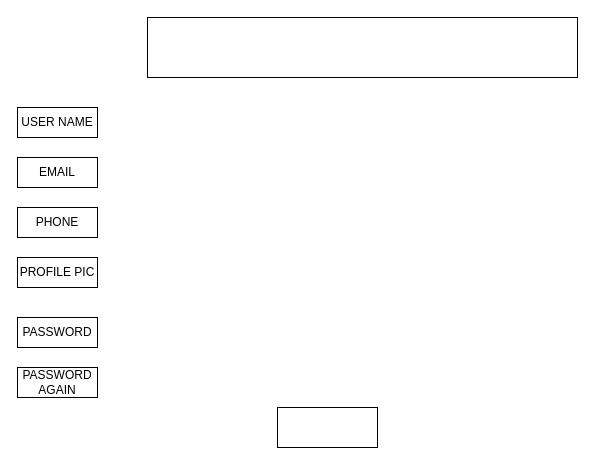
Some shapes in this 595 by 465 pixel diagram are drawn without their labels. Each missing label, with the centre of its shape:
"REGISTER" belongs at point 327,427.
"REGISTRATION PAGE" belongs at point 362,47.
